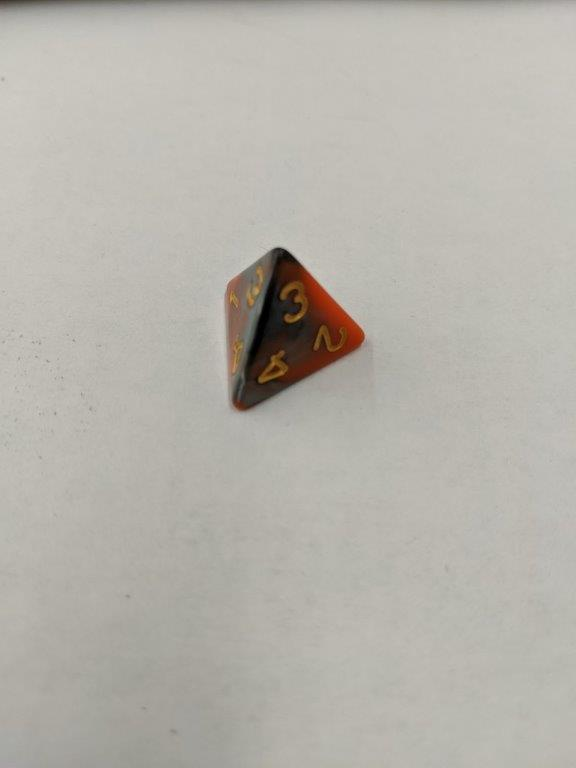d4-3: (216, 244, 370, 411)
